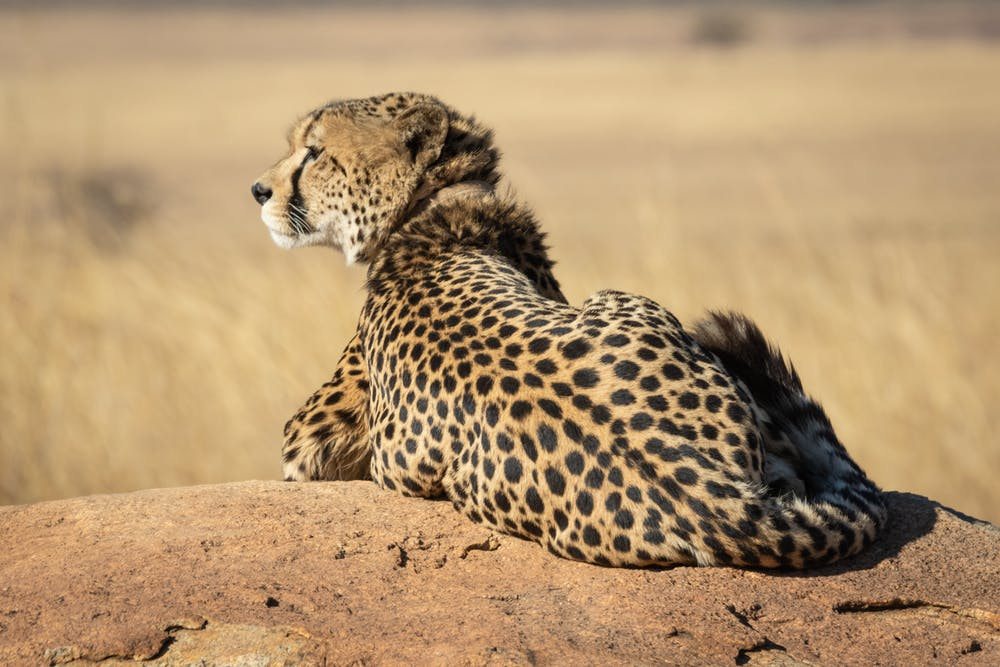cheetah: (234, 85, 502, 268)
